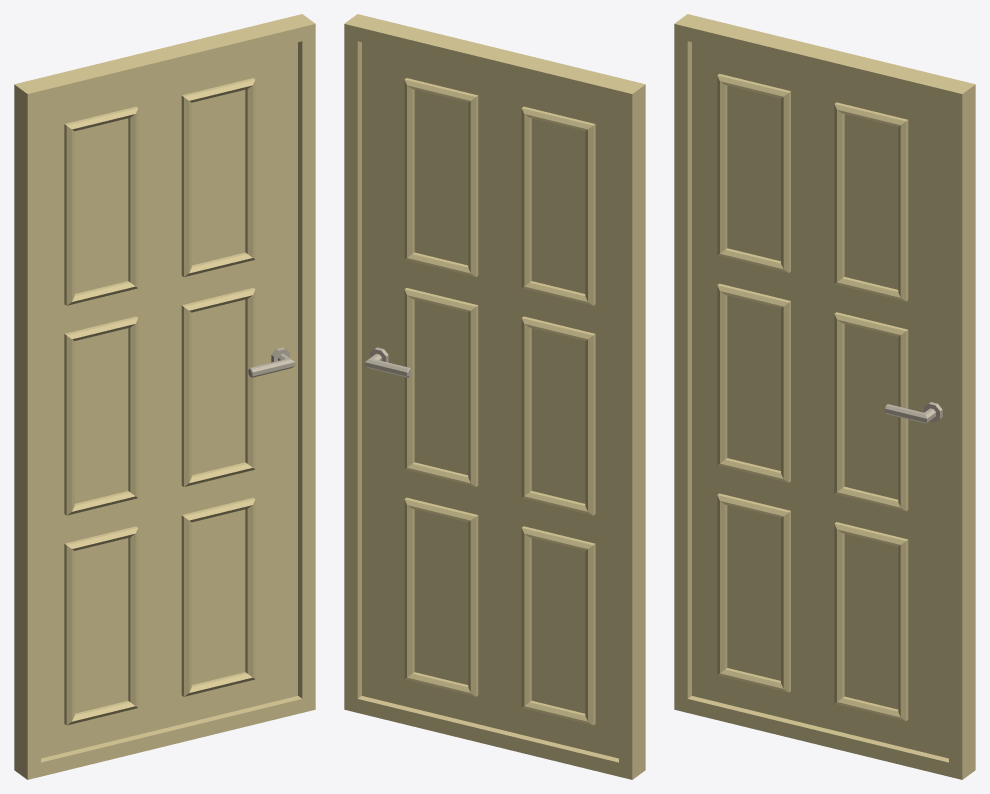
Rendered from Mesh_Door_B09.fbx.
3 renders of one model, left to right at view 1: azimuth 30°, elevation 25°; view 2: azimuth 150°, elevation 25°; view 3: azimuth 330°, elevation 25°, orthographic.
Parts seen in each view (by area): view 1: Mesh_Door_B09; view 2: Mesh_Door_B09; view 3: Mesh_Door_B09.
Boxes of the visible parts, bbox=[...] form: Mesh_Door_B09: bbox=[14, 14, 315, 779]; Mesh_Door_B09: bbox=[344, 14, 645, 779]; Mesh_Door_B09: bbox=[674, 14, 975, 779].
Bounding box in the file's own units: 0.9 × 2.05 × 0.1524.
